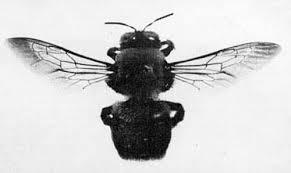Xylocopa: (17, 6, 272, 159)
